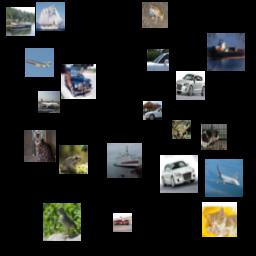airplane: (205, 159, 243, 197), (25, 48, 54, 77), (38, 91, 60, 113)
automobile: (160, 155, 198, 193), (61, 64, 96, 99), (176, 71, 205, 100), (147, 49, 169, 71), (143, 101, 162, 120)
bird: (43, 203, 81, 241)
cat: (202, 202, 237, 237), (24, 130, 56, 162), (201, 124, 227, 150)
frog: (59, 145, 88, 174), (142, 2, 168, 28), (172, 120, 191, 139)
ship: (207, 33, 245, 71), (107, 143, 142, 178), (6, 7, 35, 36), (36, 2, 65, 31)
truck: (113, 213, 132, 232)
